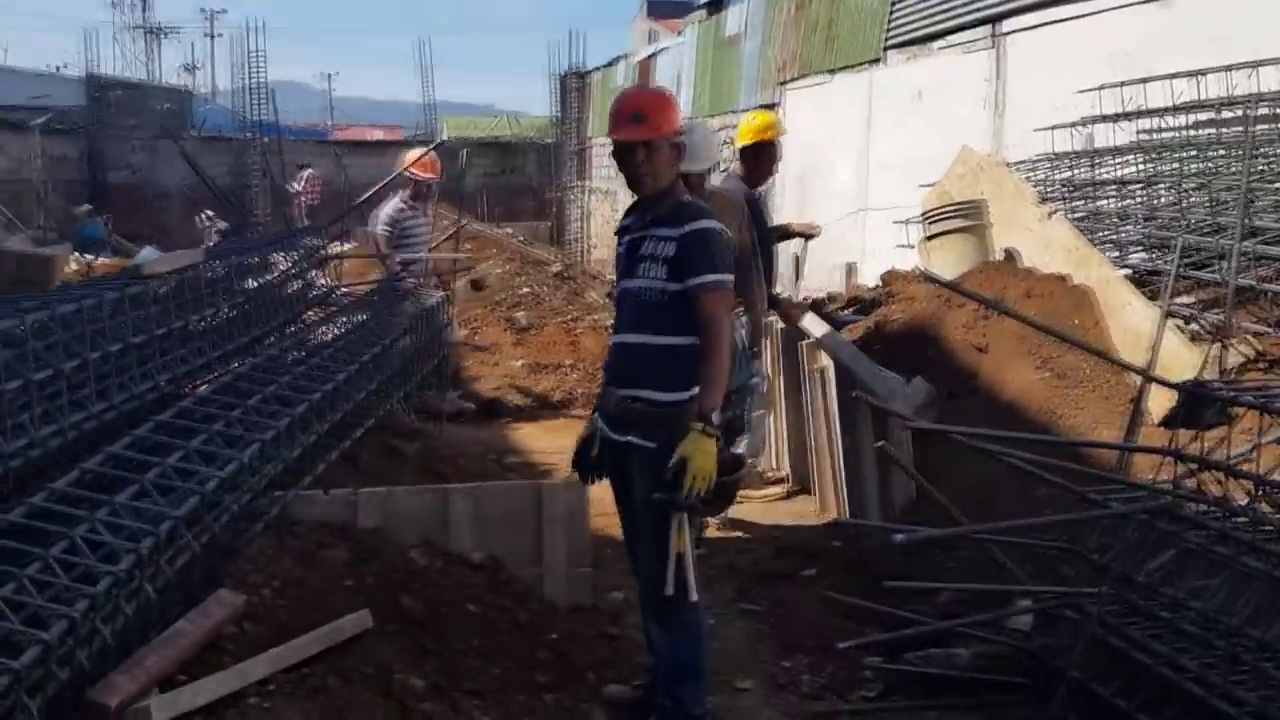helmet: (607, 85, 689, 143), (730, 108, 787, 148), (401, 148, 442, 186)
helmet-off: (294, 158, 312, 176)
helmet-on: (603, 83, 690, 204), (730, 106, 788, 192), (388, 149, 440, 211)
person: (565, 61, 742, 667), (719, 99, 819, 351), (368, 146, 451, 432), (288, 160, 323, 228)
